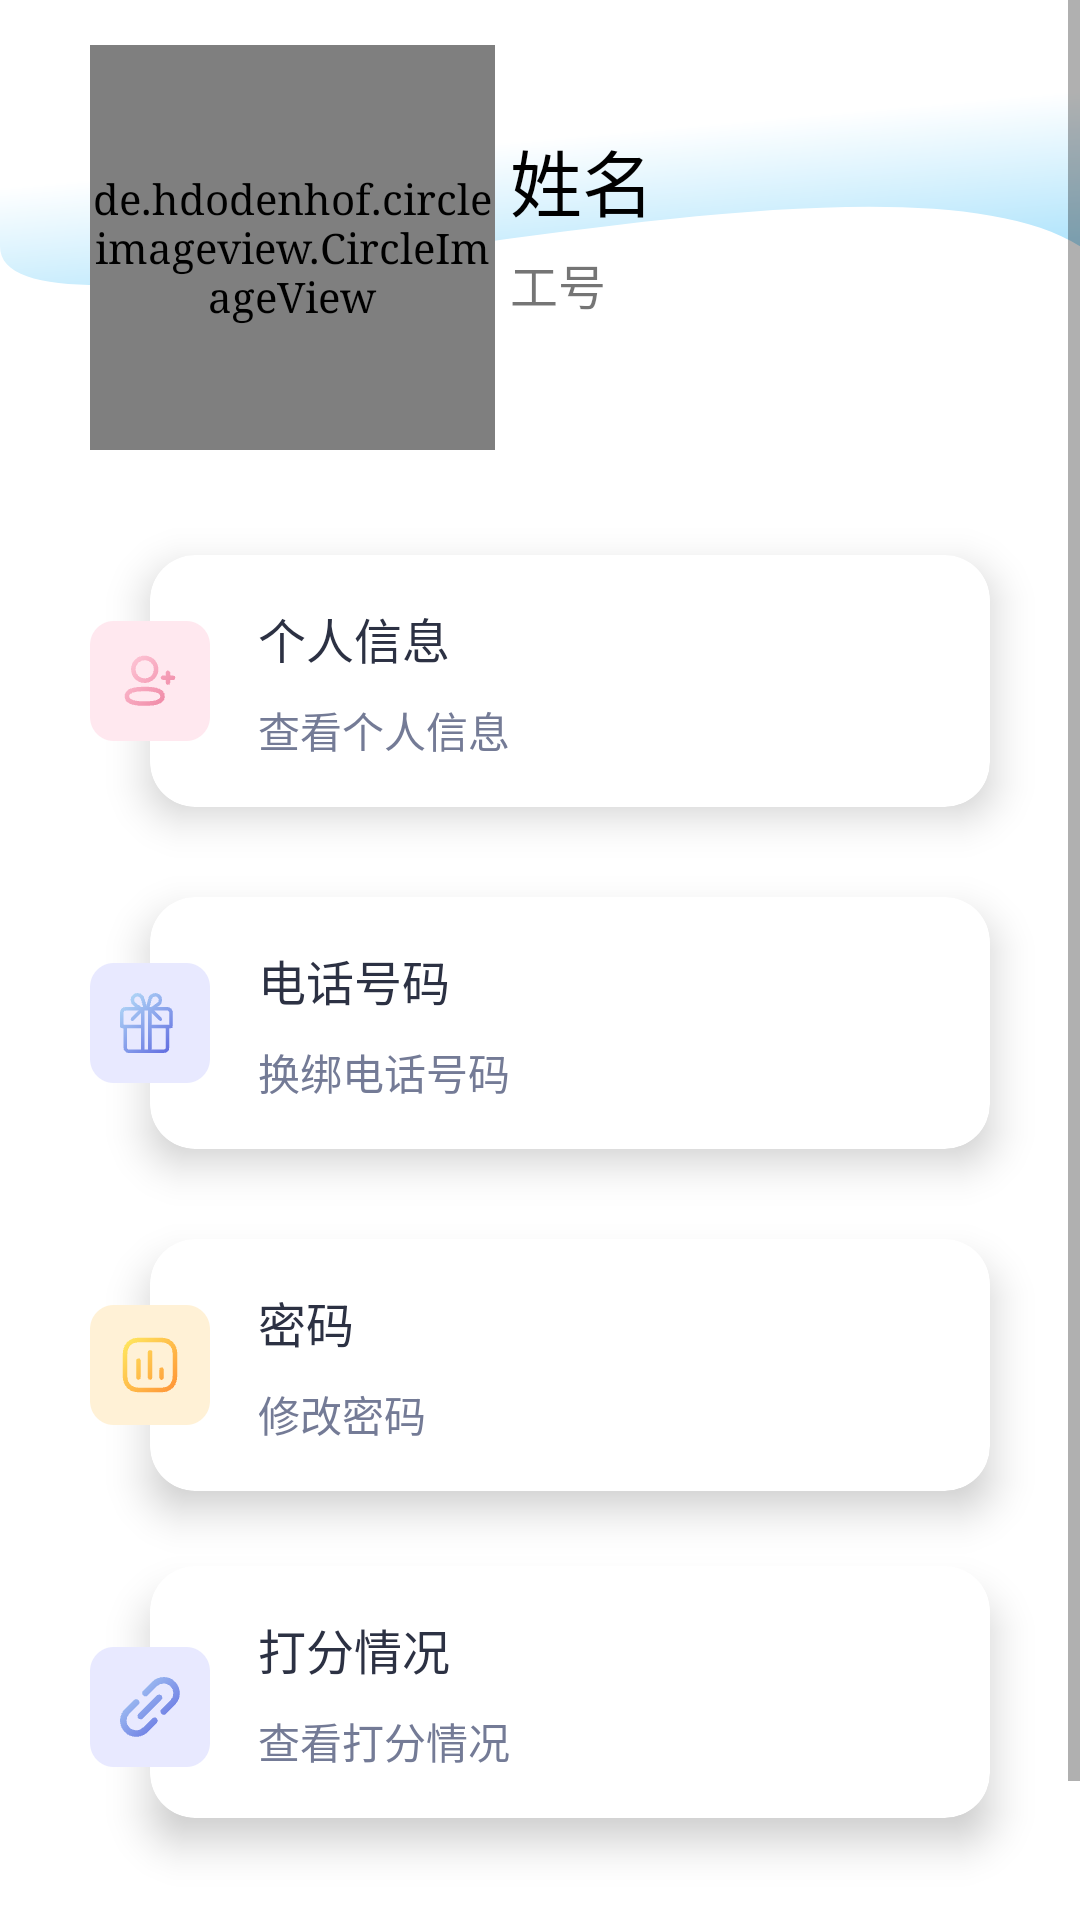

Icon bounding boxes for this 1080 × 1920 phone screenshot, format box=[x1, y1, x2, y2]:
bgift: box=[120, 993, 173, 1053]
chain: box=[120, 1677, 180, 1737]
chart: box=[122, 1337, 178, 1393]
